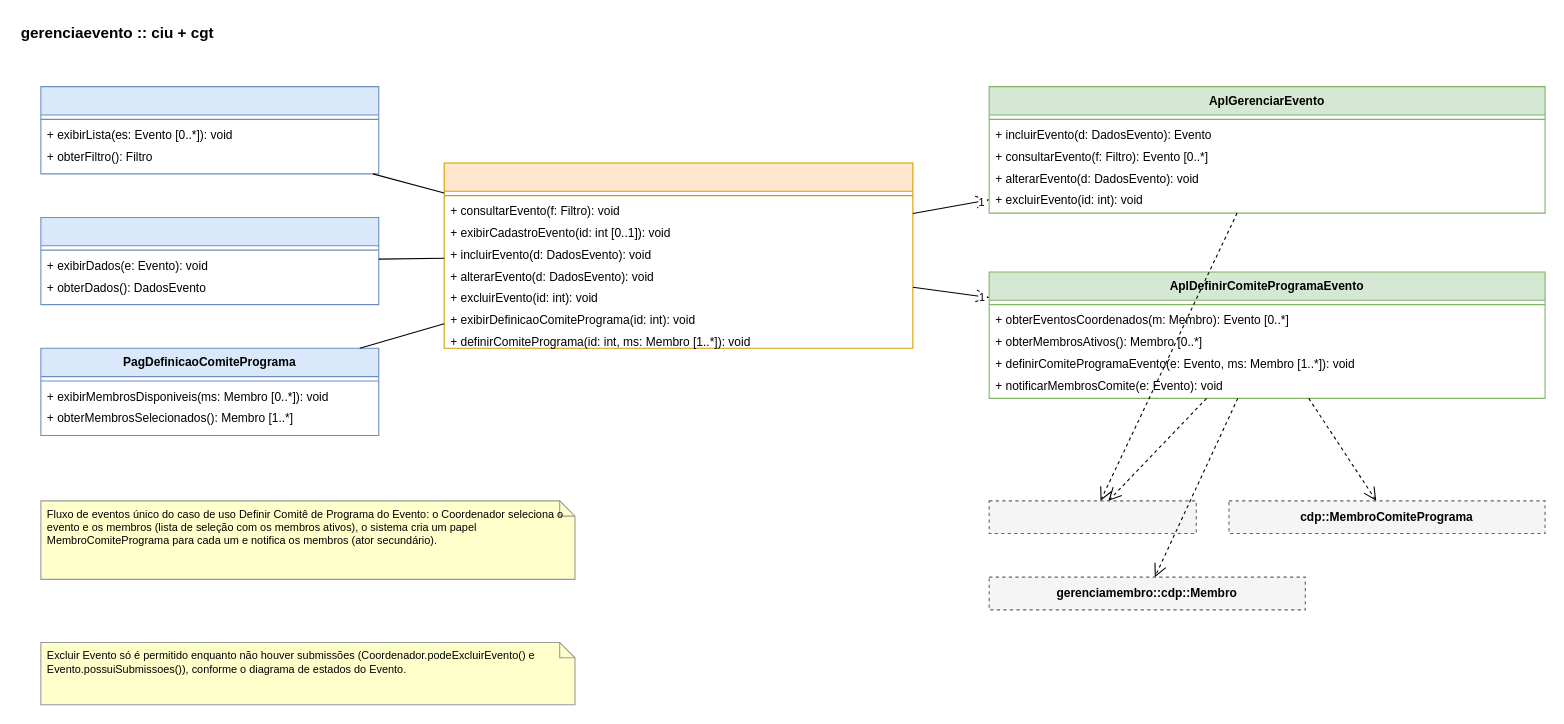
Image size: 1564x724. Some labels were removed from this diagram. Each missing label, with the box of its shape:
cdp::Evento: (988, 500, 1196, 534)
CtrlGerenciaEvento: (443, 162, 913, 348)
PagCadastroEvento: (40, 216, 379, 305)
PagConsultaEvento: (40, 86, 379, 174)
